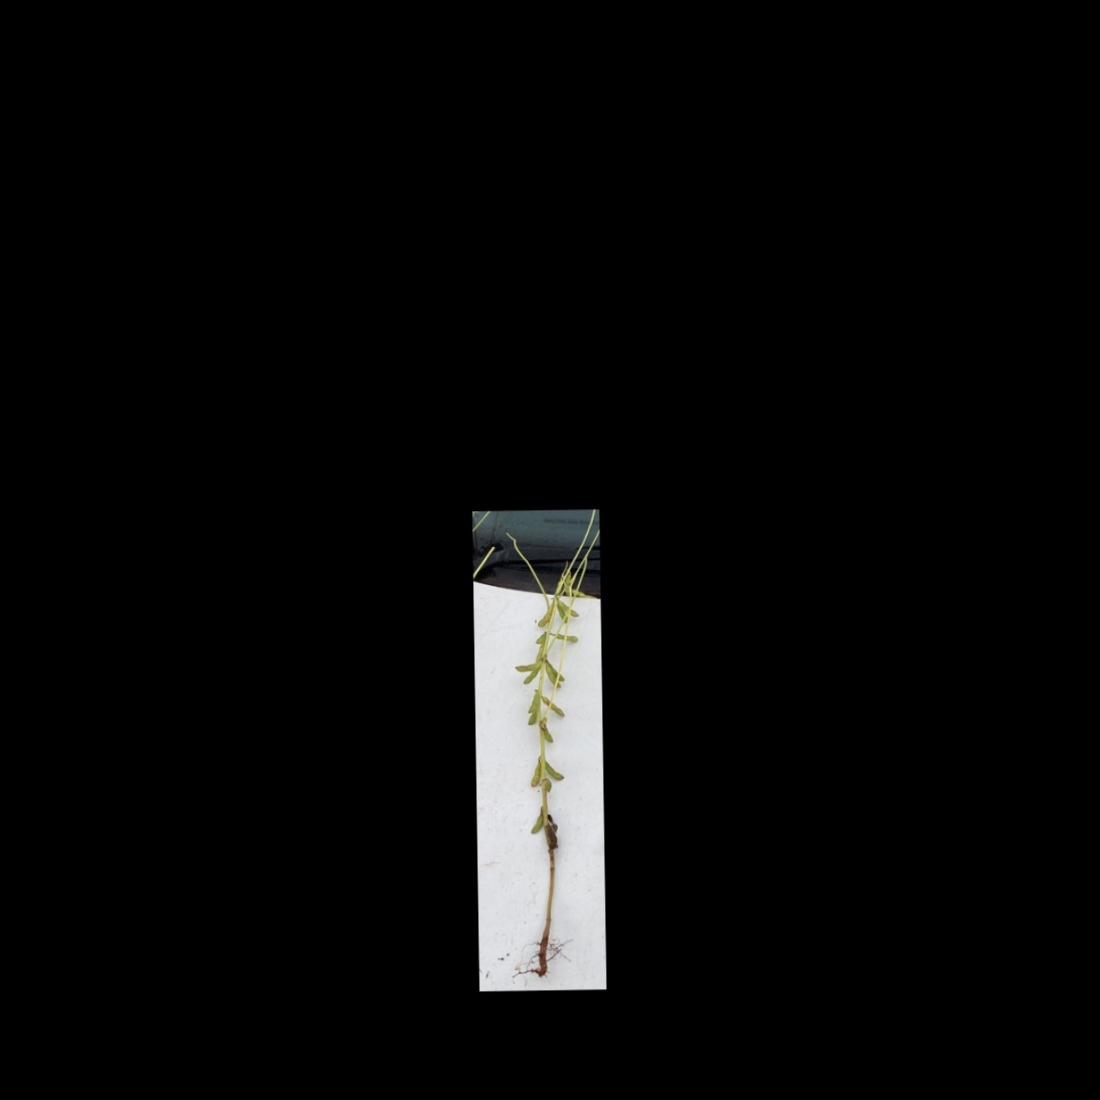pod: (538, 694, 567, 719), (543, 660, 561, 691), (544, 757, 565, 782), (535, 601, 554, 629), (557, 595, 579, 618), (520, 663, 541, 686), (529, 809, 546, 836), (529, 757, 542, 791), (525, 692, 540, 715)
soy: (509, 540, 587, 977)
